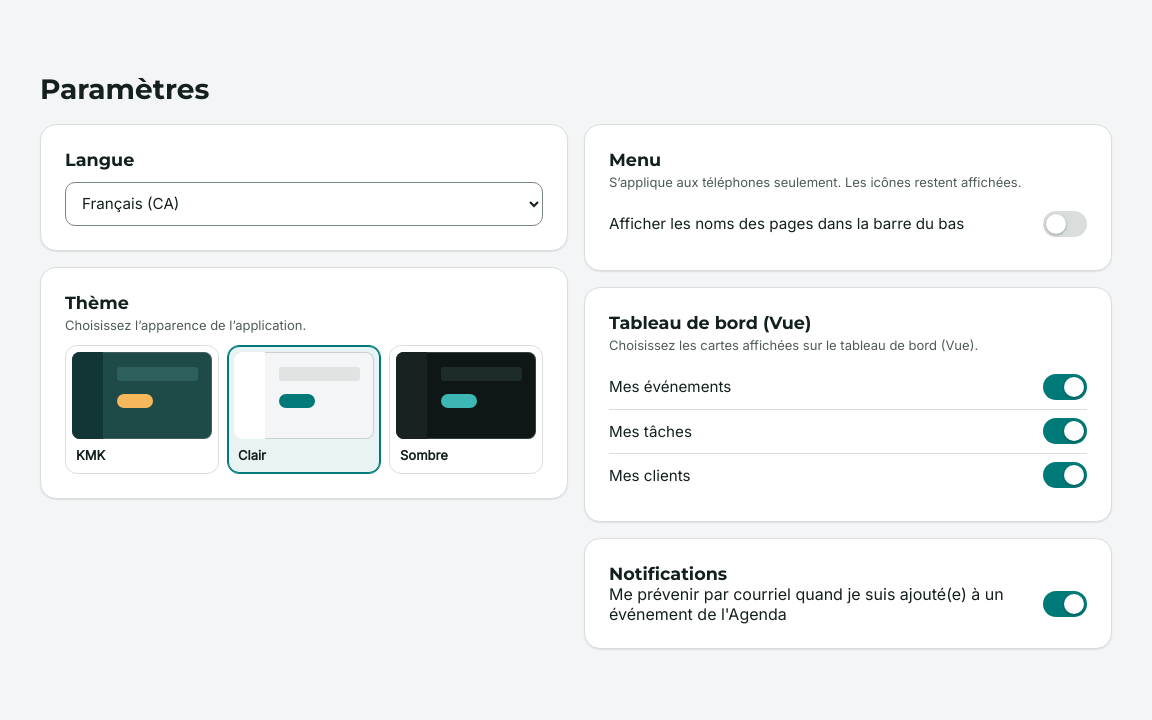
Test: Settings page › lets a person show the page names in the phone's bottom bar, and saves it to the account
The width and height of the screenshot is (1152, 720).
Step 1. Click the switch labelled "Afficher les noms des pages dans la barre du bas" → click(848, 224), box [609,211,1087,237]
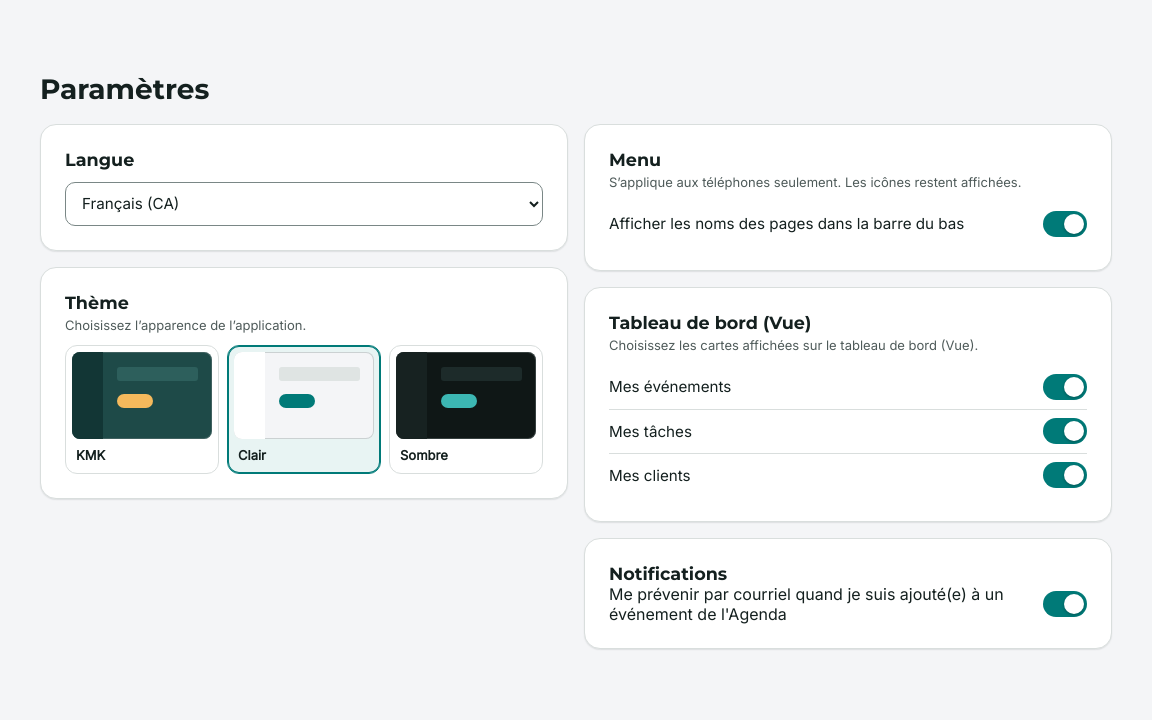
Now the switch labelled "Afficher les noms des pages dans la barre du bas" is checked, box [609,211,1087,237]
